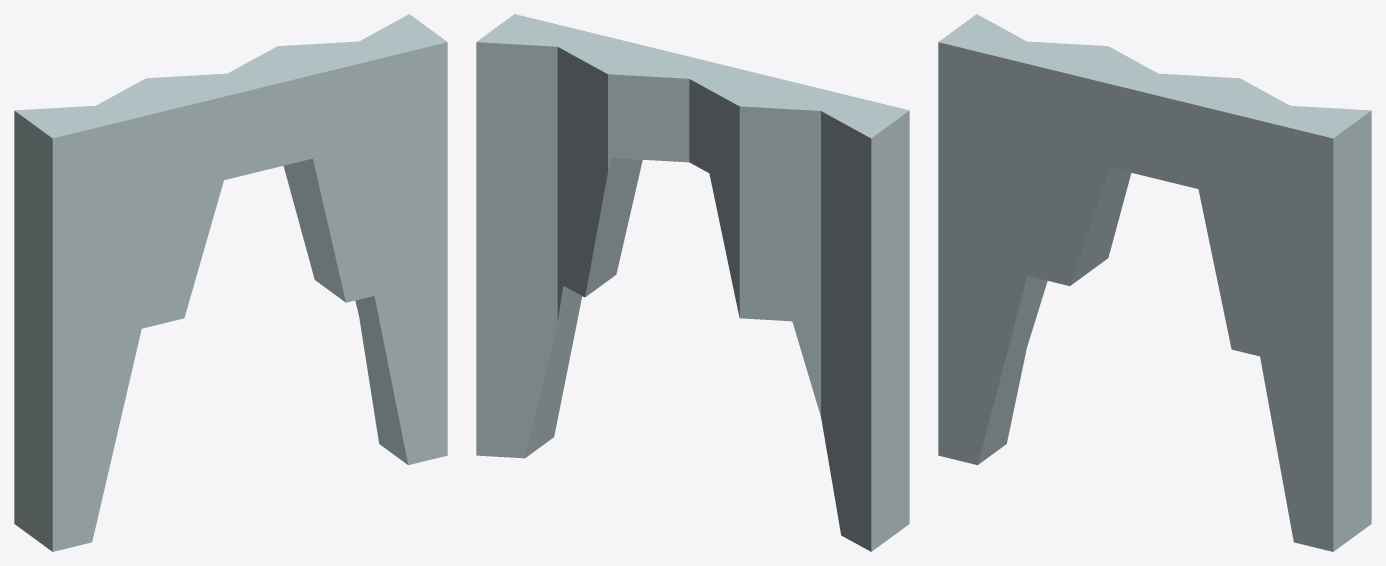
Rendered from cliff_cave_stone.glb.
3 views of the same model, side by side, from view 1: azimuth 30°, elevation 25°; view 2: azimuth 150°, elevation 25°; view 3: azimuth 330°, elevation 25° (orthographic).
Parts seen in each view (by area): view 1: cliff_cave_stone; view 2: cliff_cave_stone; view 3: cliff_cave_stone.
Boxes of the visible parts, left/top/right/bottom form: cliff_cave_stone: left=14, top=14, right=447, bottom=551; cliff_cave_stone: left=476, top=14, right=909, bottom=551; cliff_cave_stone: left=938, top=14, right=1371, bottom=551.
Size of the model in its own units: 1 by 1 by 0.1685.
